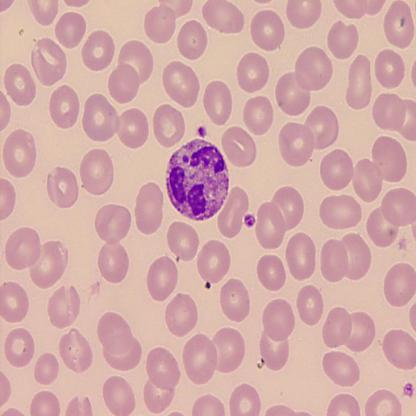Segmented neutrophil: (164, 136, 230, 223)
